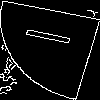I: (25, 25, 83, 49)
